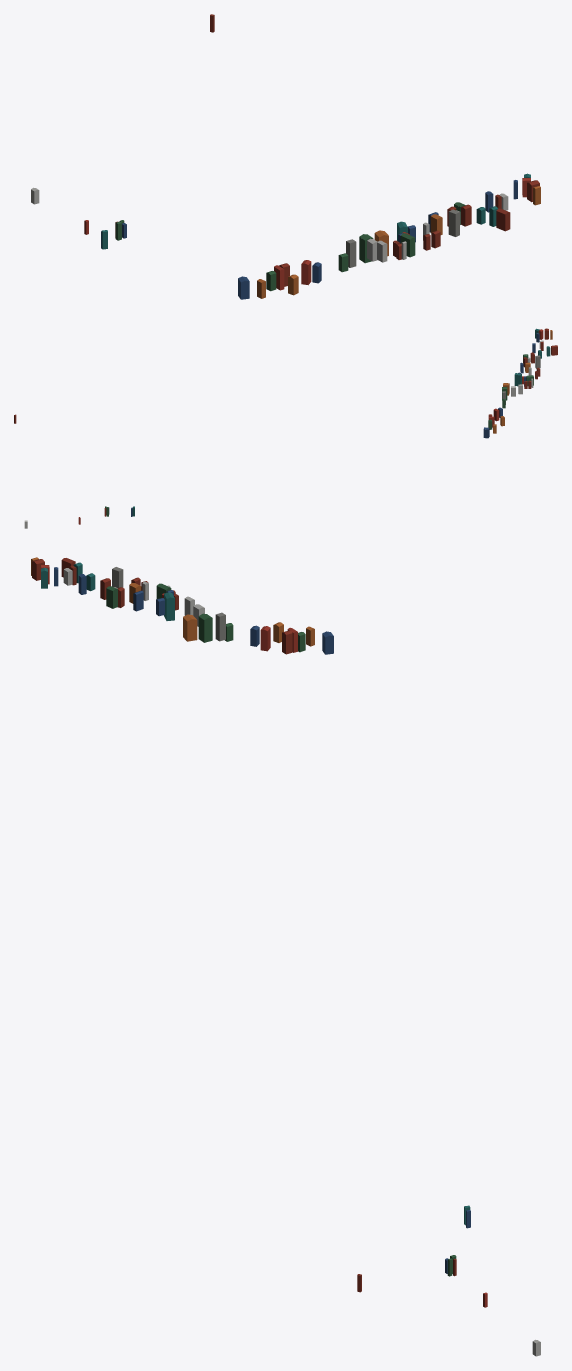
Rendered from near-15-27371-14876.d71d460f.glb.
3 renders of one model, top to bottom at view 1: azimuth 90°, elevation 25°; view 2: azimuth 150°, elevation 25°; view 3: azimuth 270°, elevation 25°, orthographic. The views are drawn at different scales.
Size of the model in its own units: 968 by 400 by 454.
